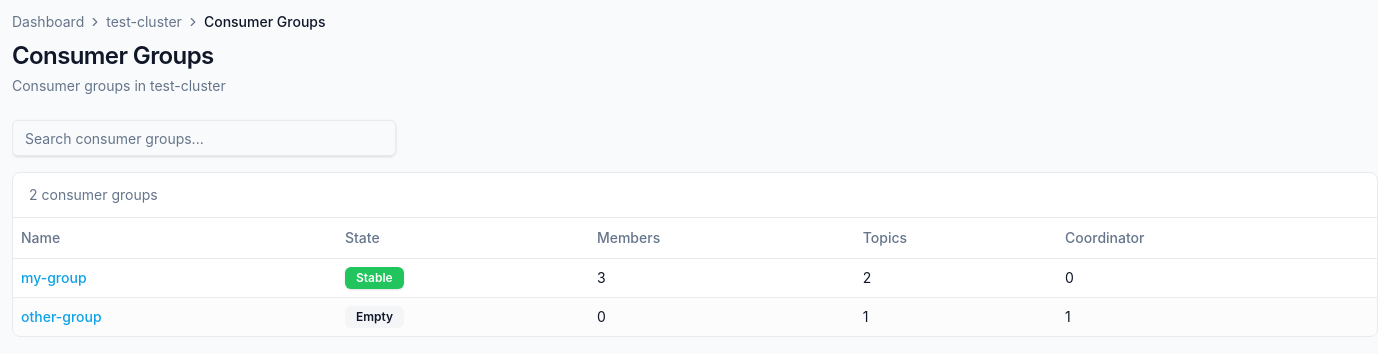
Test: ConsumerGroupsPage › filters groups by search
This screenshot has width=1378, height=354.
Expected: the link "my-group" is shown, [21,268,86,286]
Type "other" into the field with placeholder "Search consumer groups..." at x=204, y=138, box [12,120,396,156]
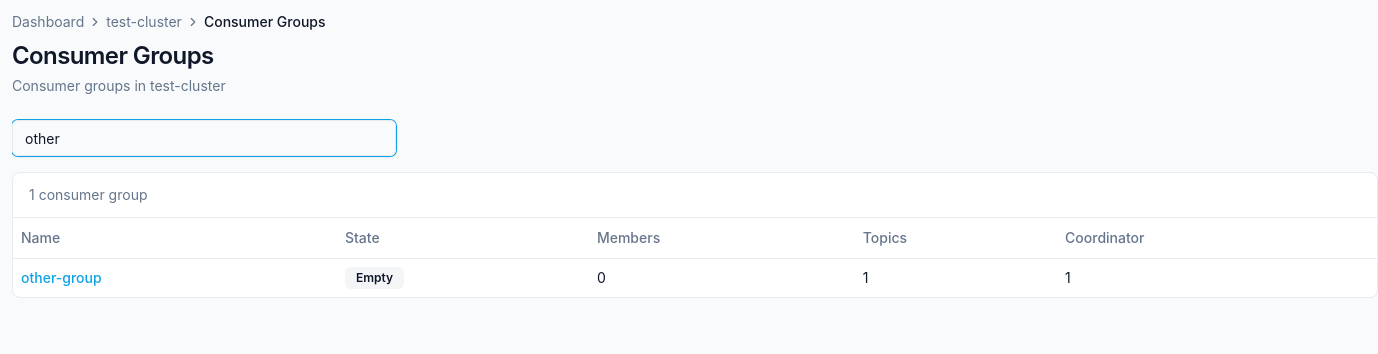
Expected: the link "my-group" is gone
Expected: the link "other-group" is shown, [21,268,102,286]
